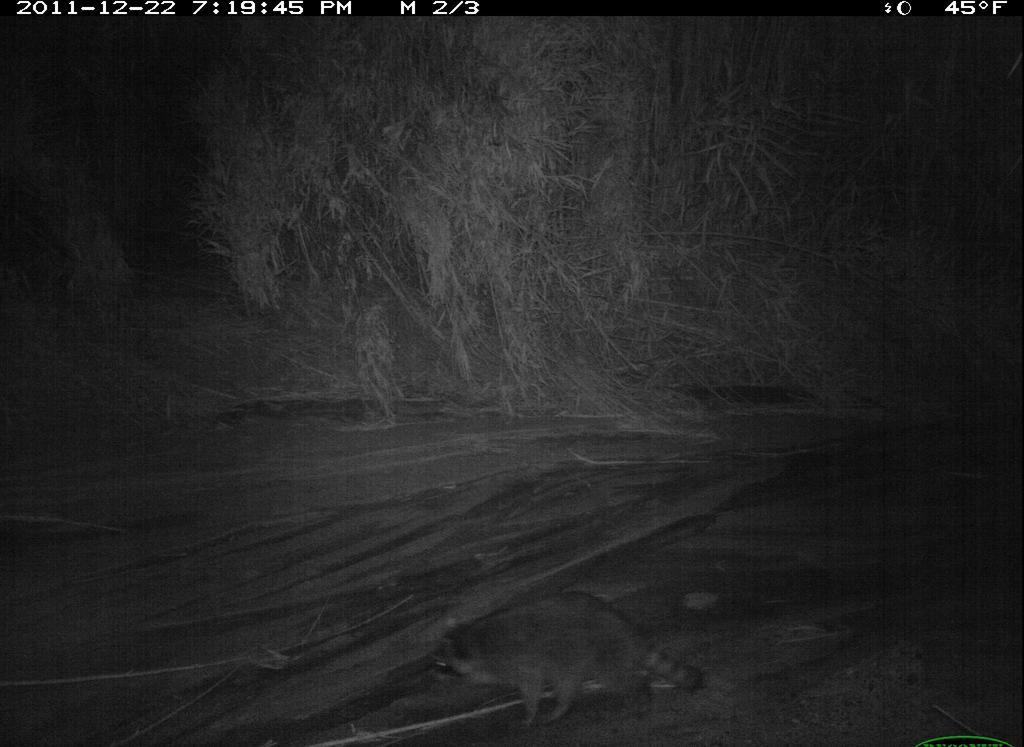raccoon: (423, 593, 708, 734)
